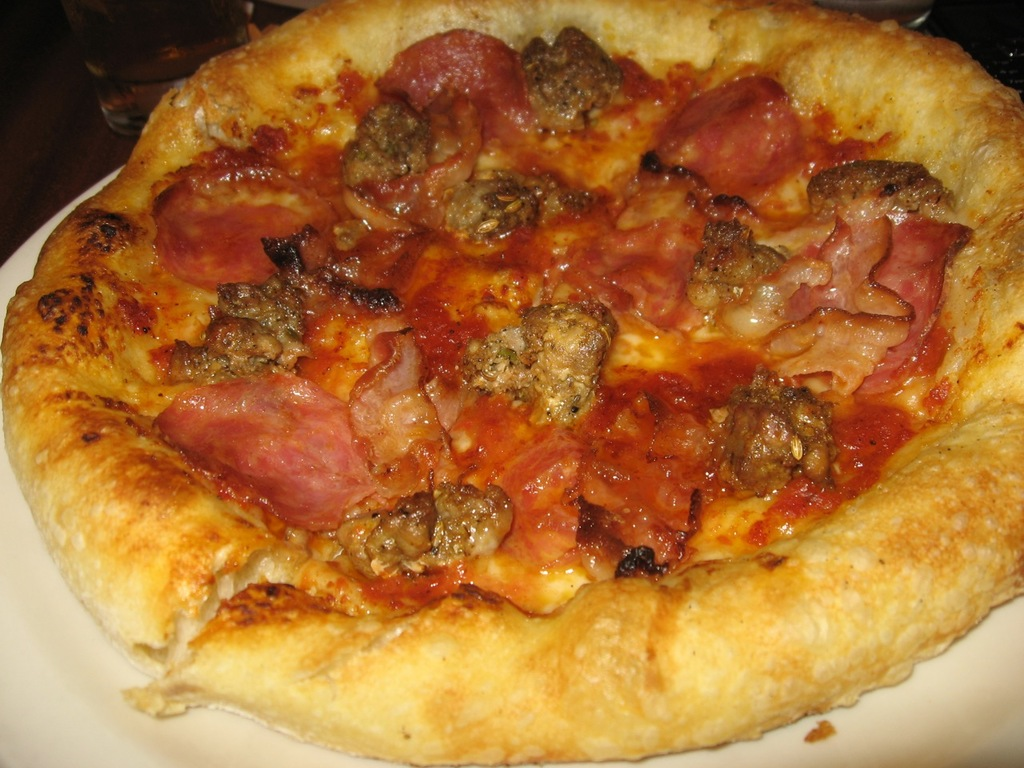Pizza: (50, 7, 1024, 748)
